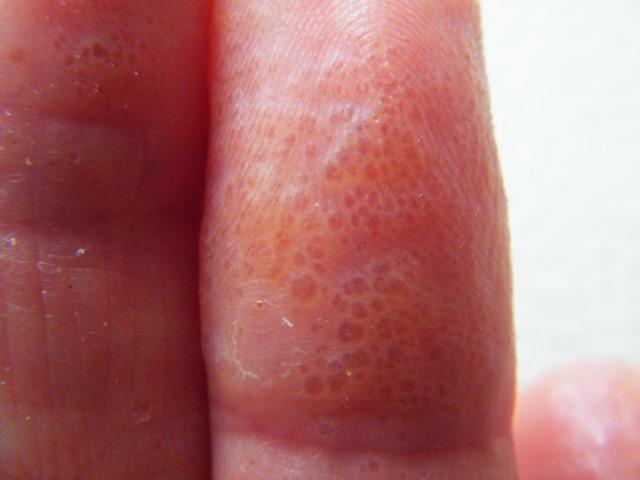Diseased: (42, 48, 516, 465)
